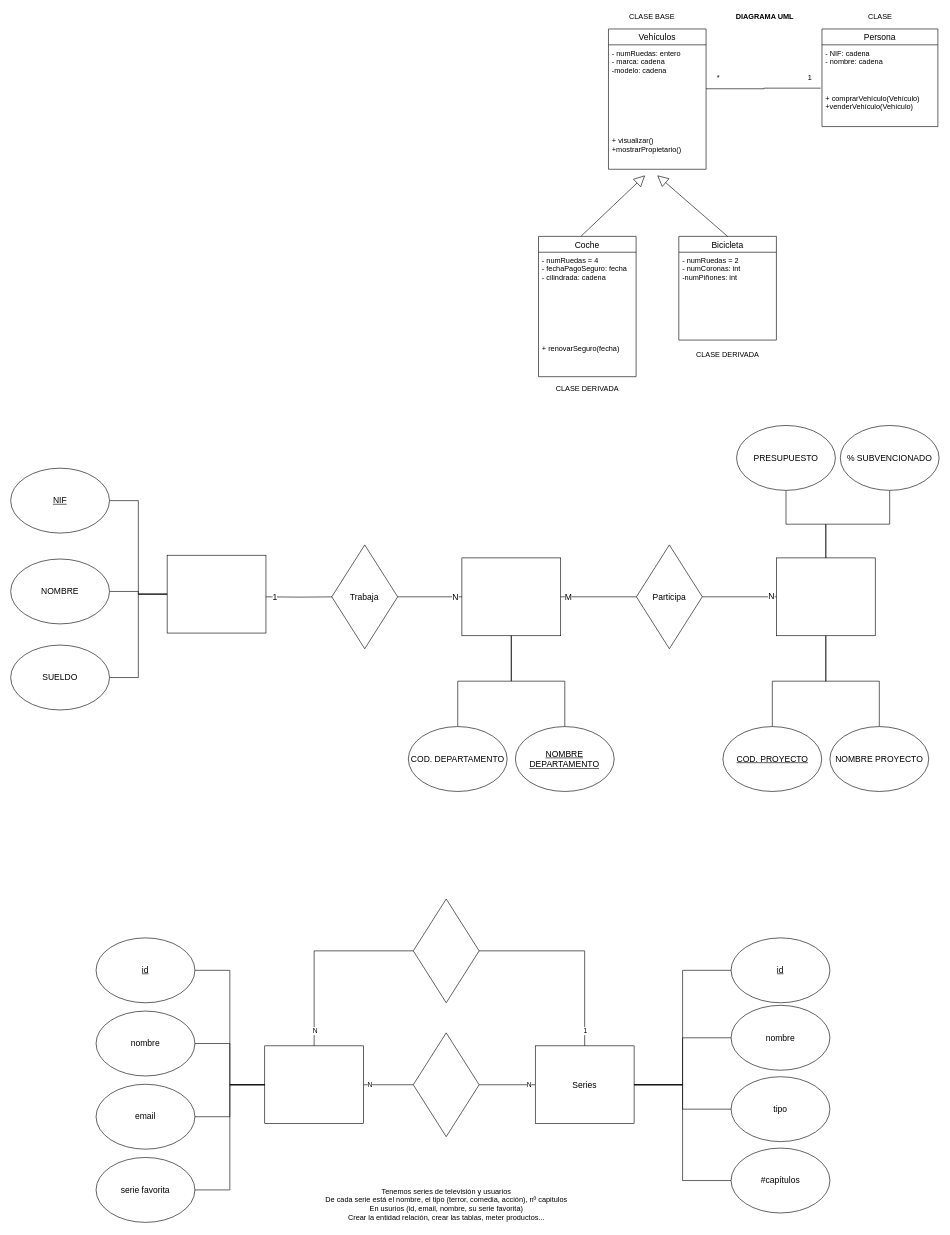
This 950x1235 diagram has some shape labels left out. The centre of each missing label's shape, as x and y in pixels:
"DEPARTAMENTOS" goes at point (511, 596).
"EMPLEADOS" goes at point (216, 594).
"es favorita" goes at point (446, 950).
"PROYECTOS" goes at point (825, 596).
"Usuarios" goes at point (314, 1084).
"Visiona" goes at point (446, 1084).
